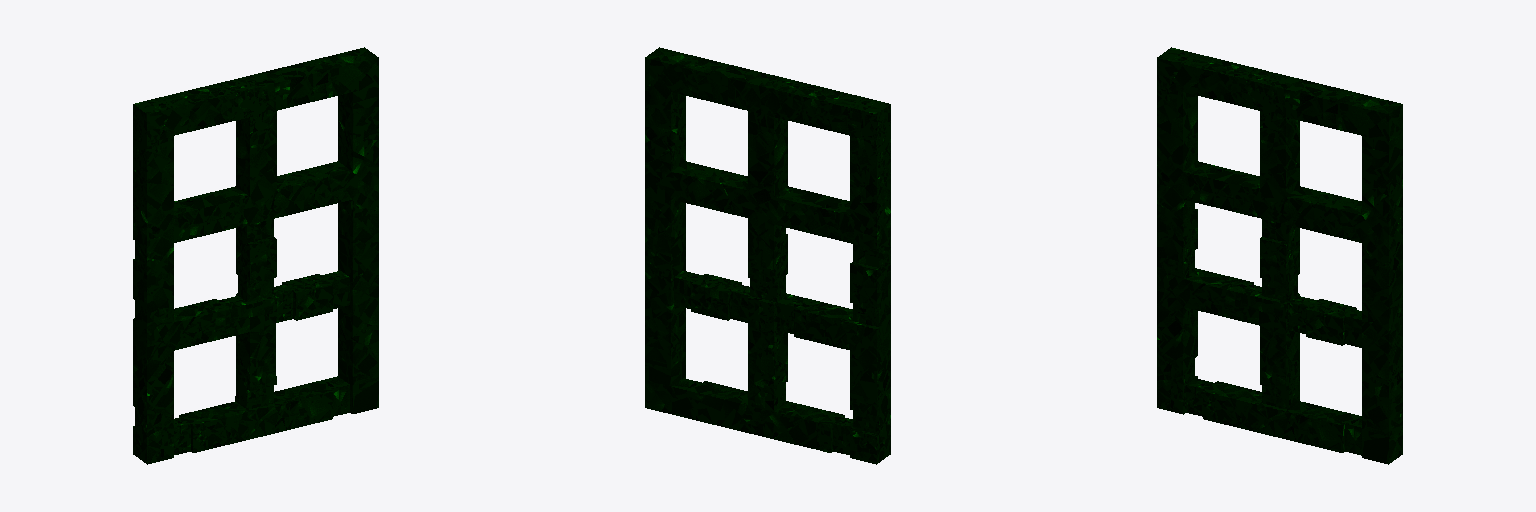
3 renders of one model, left to right at view 1: azimuth 30°, elevation 25°; view 2: azimuth 150°, elevation 25°; view 3: azimuth 330°, elevation 25°, orthographic.
Size of the model in its own units: 42.71 by 61.6 by 4.58.
1 materials, 1 textured.